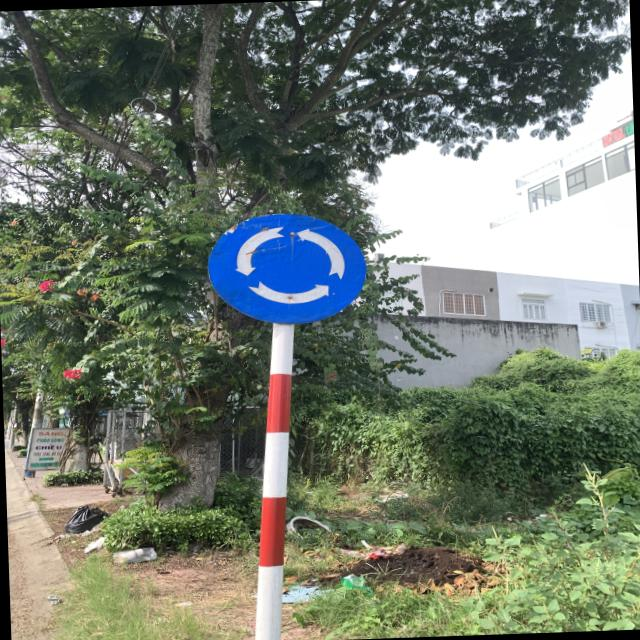Xe_Bus: (204, 209, 368, 328)
